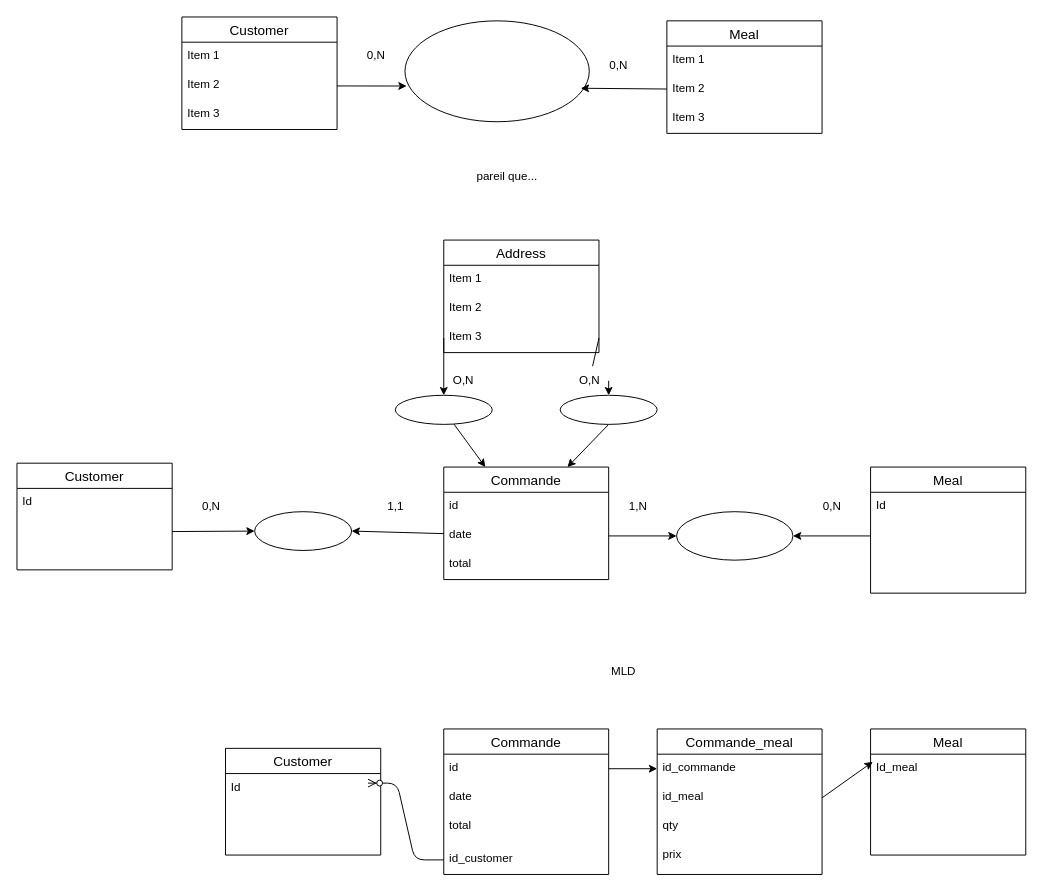
The diagram is 1043 pixels wide and 894 high, and some of its shapes have lost their labels. Here are the shapes that lost their labels. From the top down, the centre of each, then its label:
point (496, 71): Commander date_commande price qty ref
point (443, 409): livrer
point (608, 409): facturer
point (303, 530): Commander
point (734, 535): Contenir qty prix
